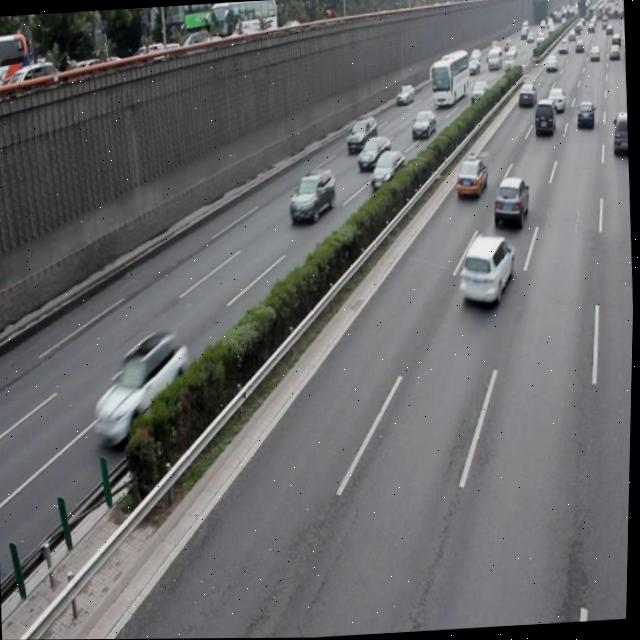car: (92, 328, 196, 448), (456, 231, 517, 307), (287, 168, 338, 225), (491, 174, 531, 231), (369, 148, 407, 193), (453, 153, 489, 198), (355, 135, 391, 175), (344, 116, 379, 157), (610, 111, 630, 157)
